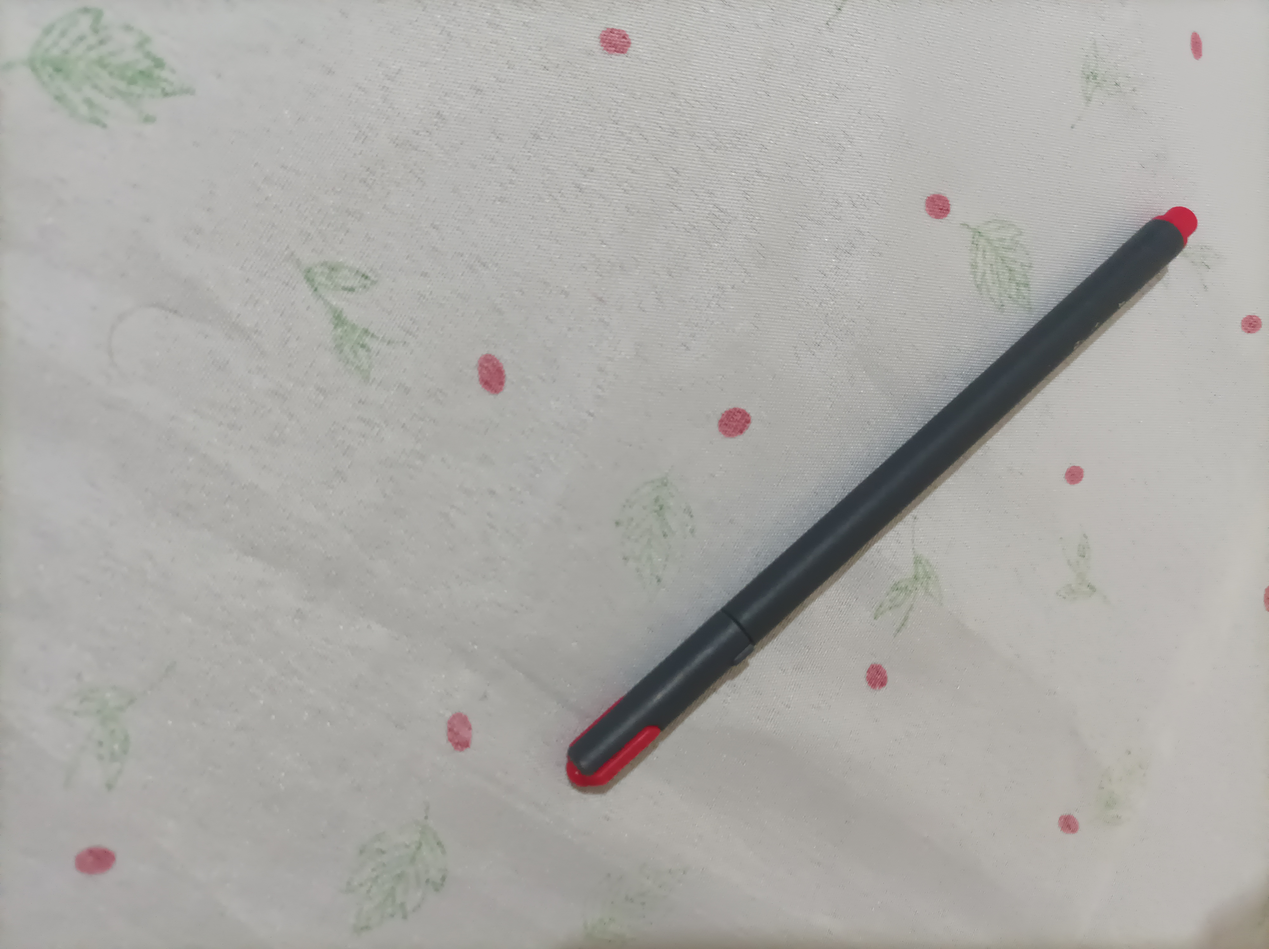plastic: (556, 206, 1206, 806)
